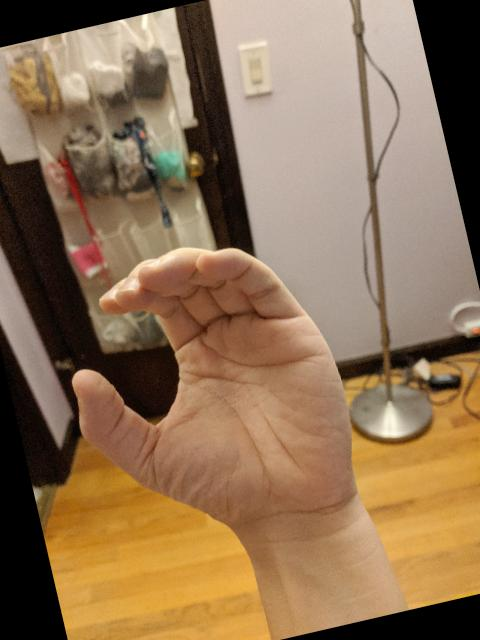C: (38, 212, 378, 574)
